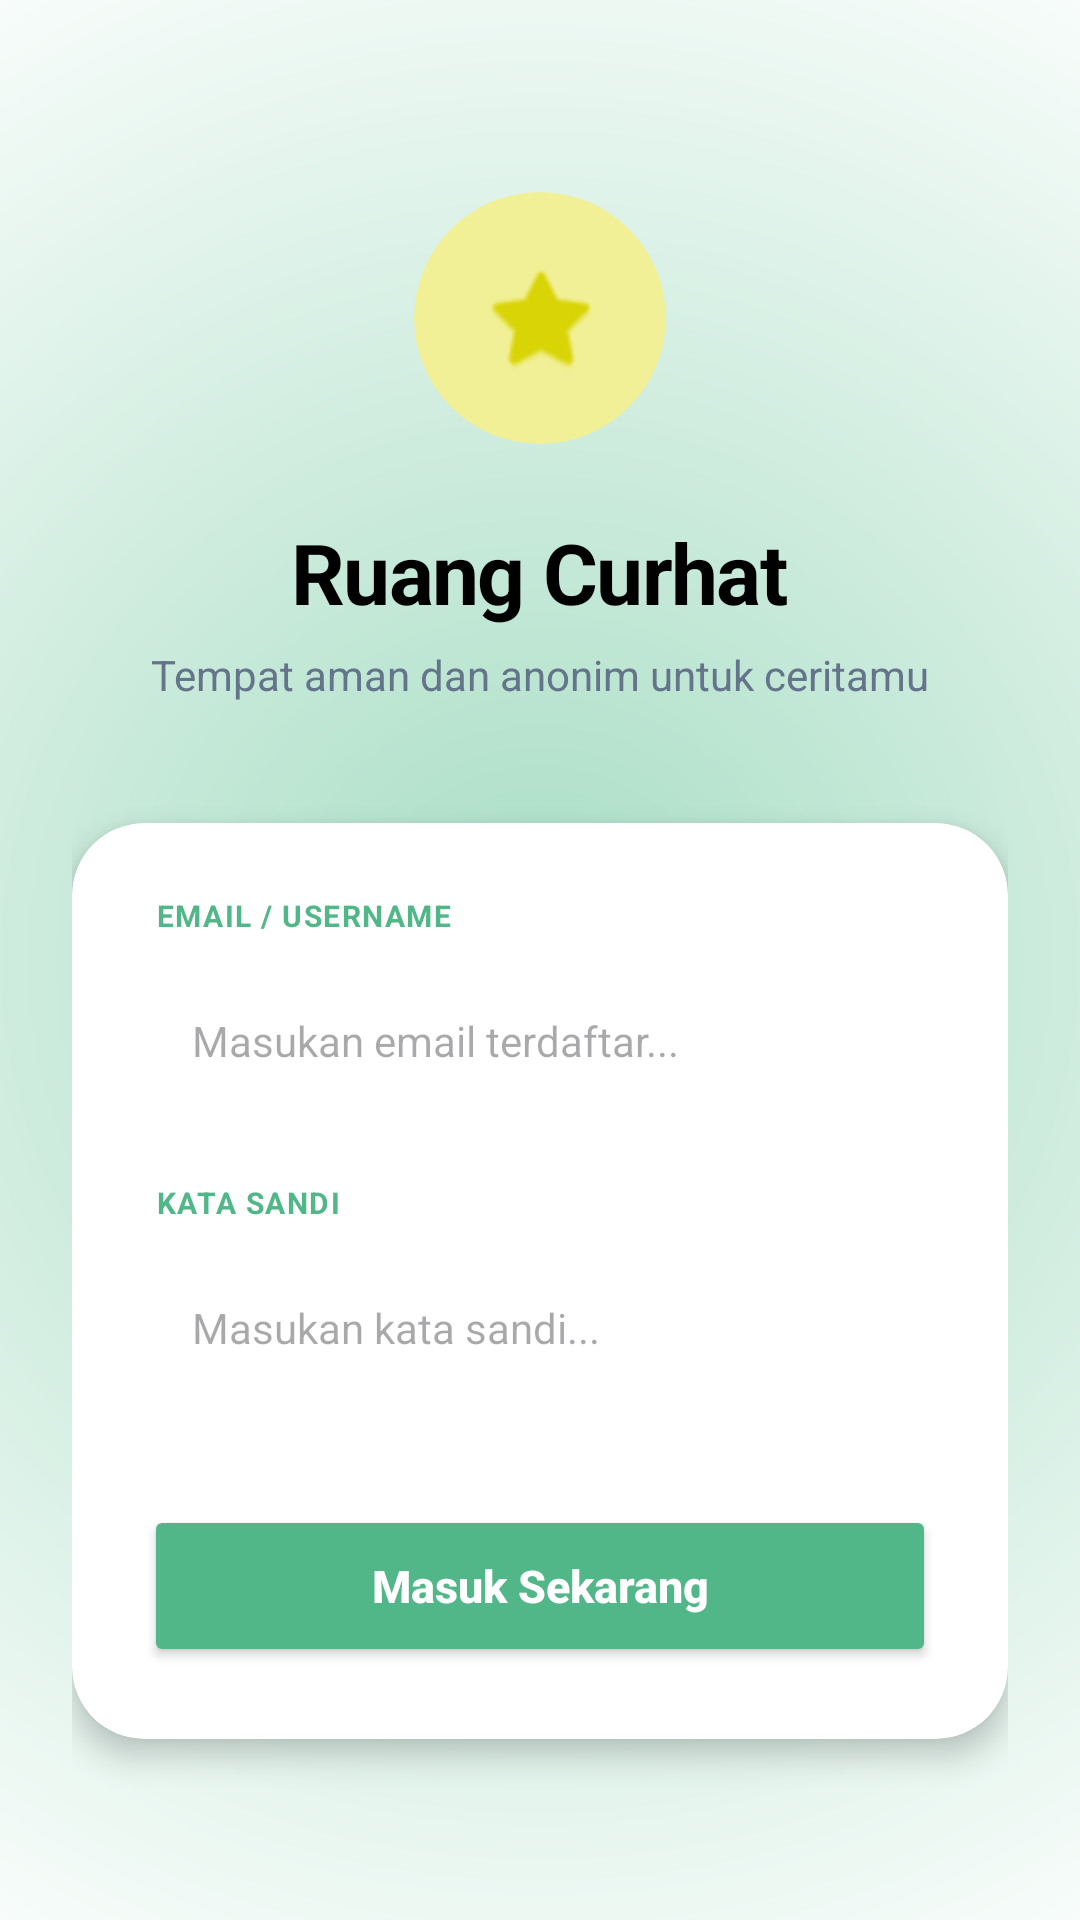

Screen size 1080px×1920px. Icon name, then its center in pixels as [x,y]:
star on: [541,319]
